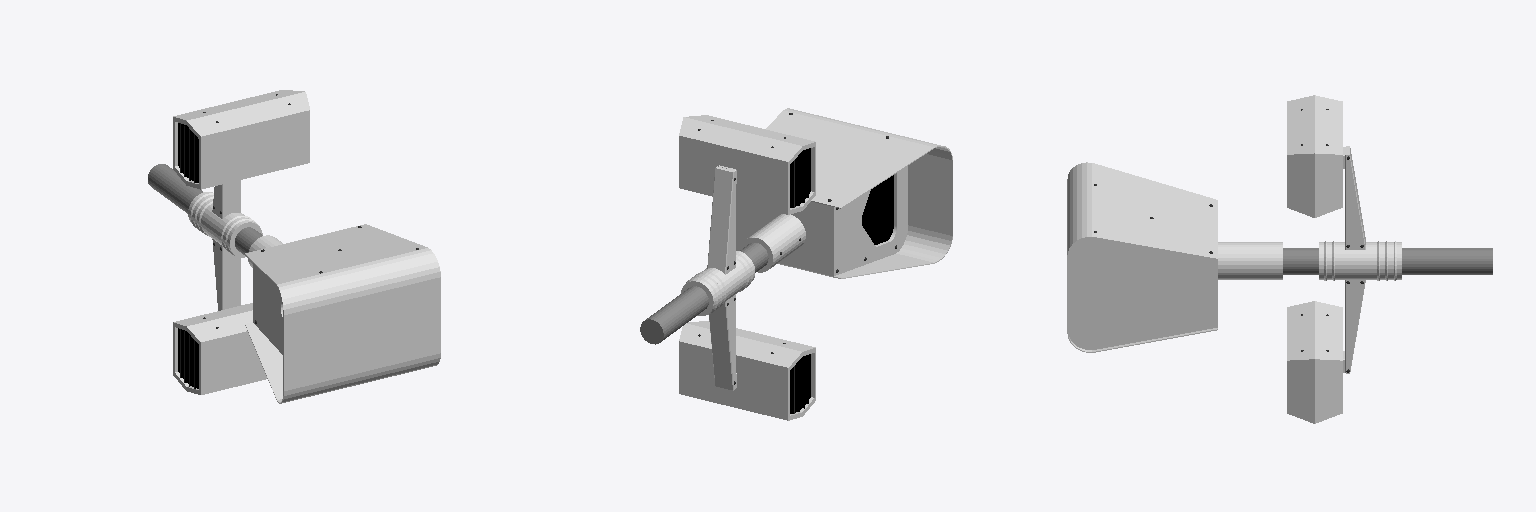
File: streetcamera0.obj
3 renders of one model, left to right at view 1: azimuth 30°, elevation 25°; view 2: azimuth 150°, elevation 25°; view 3: azimuth 270°, elevation 25°, orthographic.
Parts seen in each view (by area): view 1: traffic_c1; view 2: traffic_c1; view 3: traffic_c1.
Boxes of the visible parts, x1,y1,x2,y2 form: traffic_c1: [148, 90, 440, 403]; traffic_c1: [640, 108, 952, 420]; traffic_c1: [1067, 95, 1492, 423].
Size of the model in its own units: 16.75 by 27.52 by 39.21.